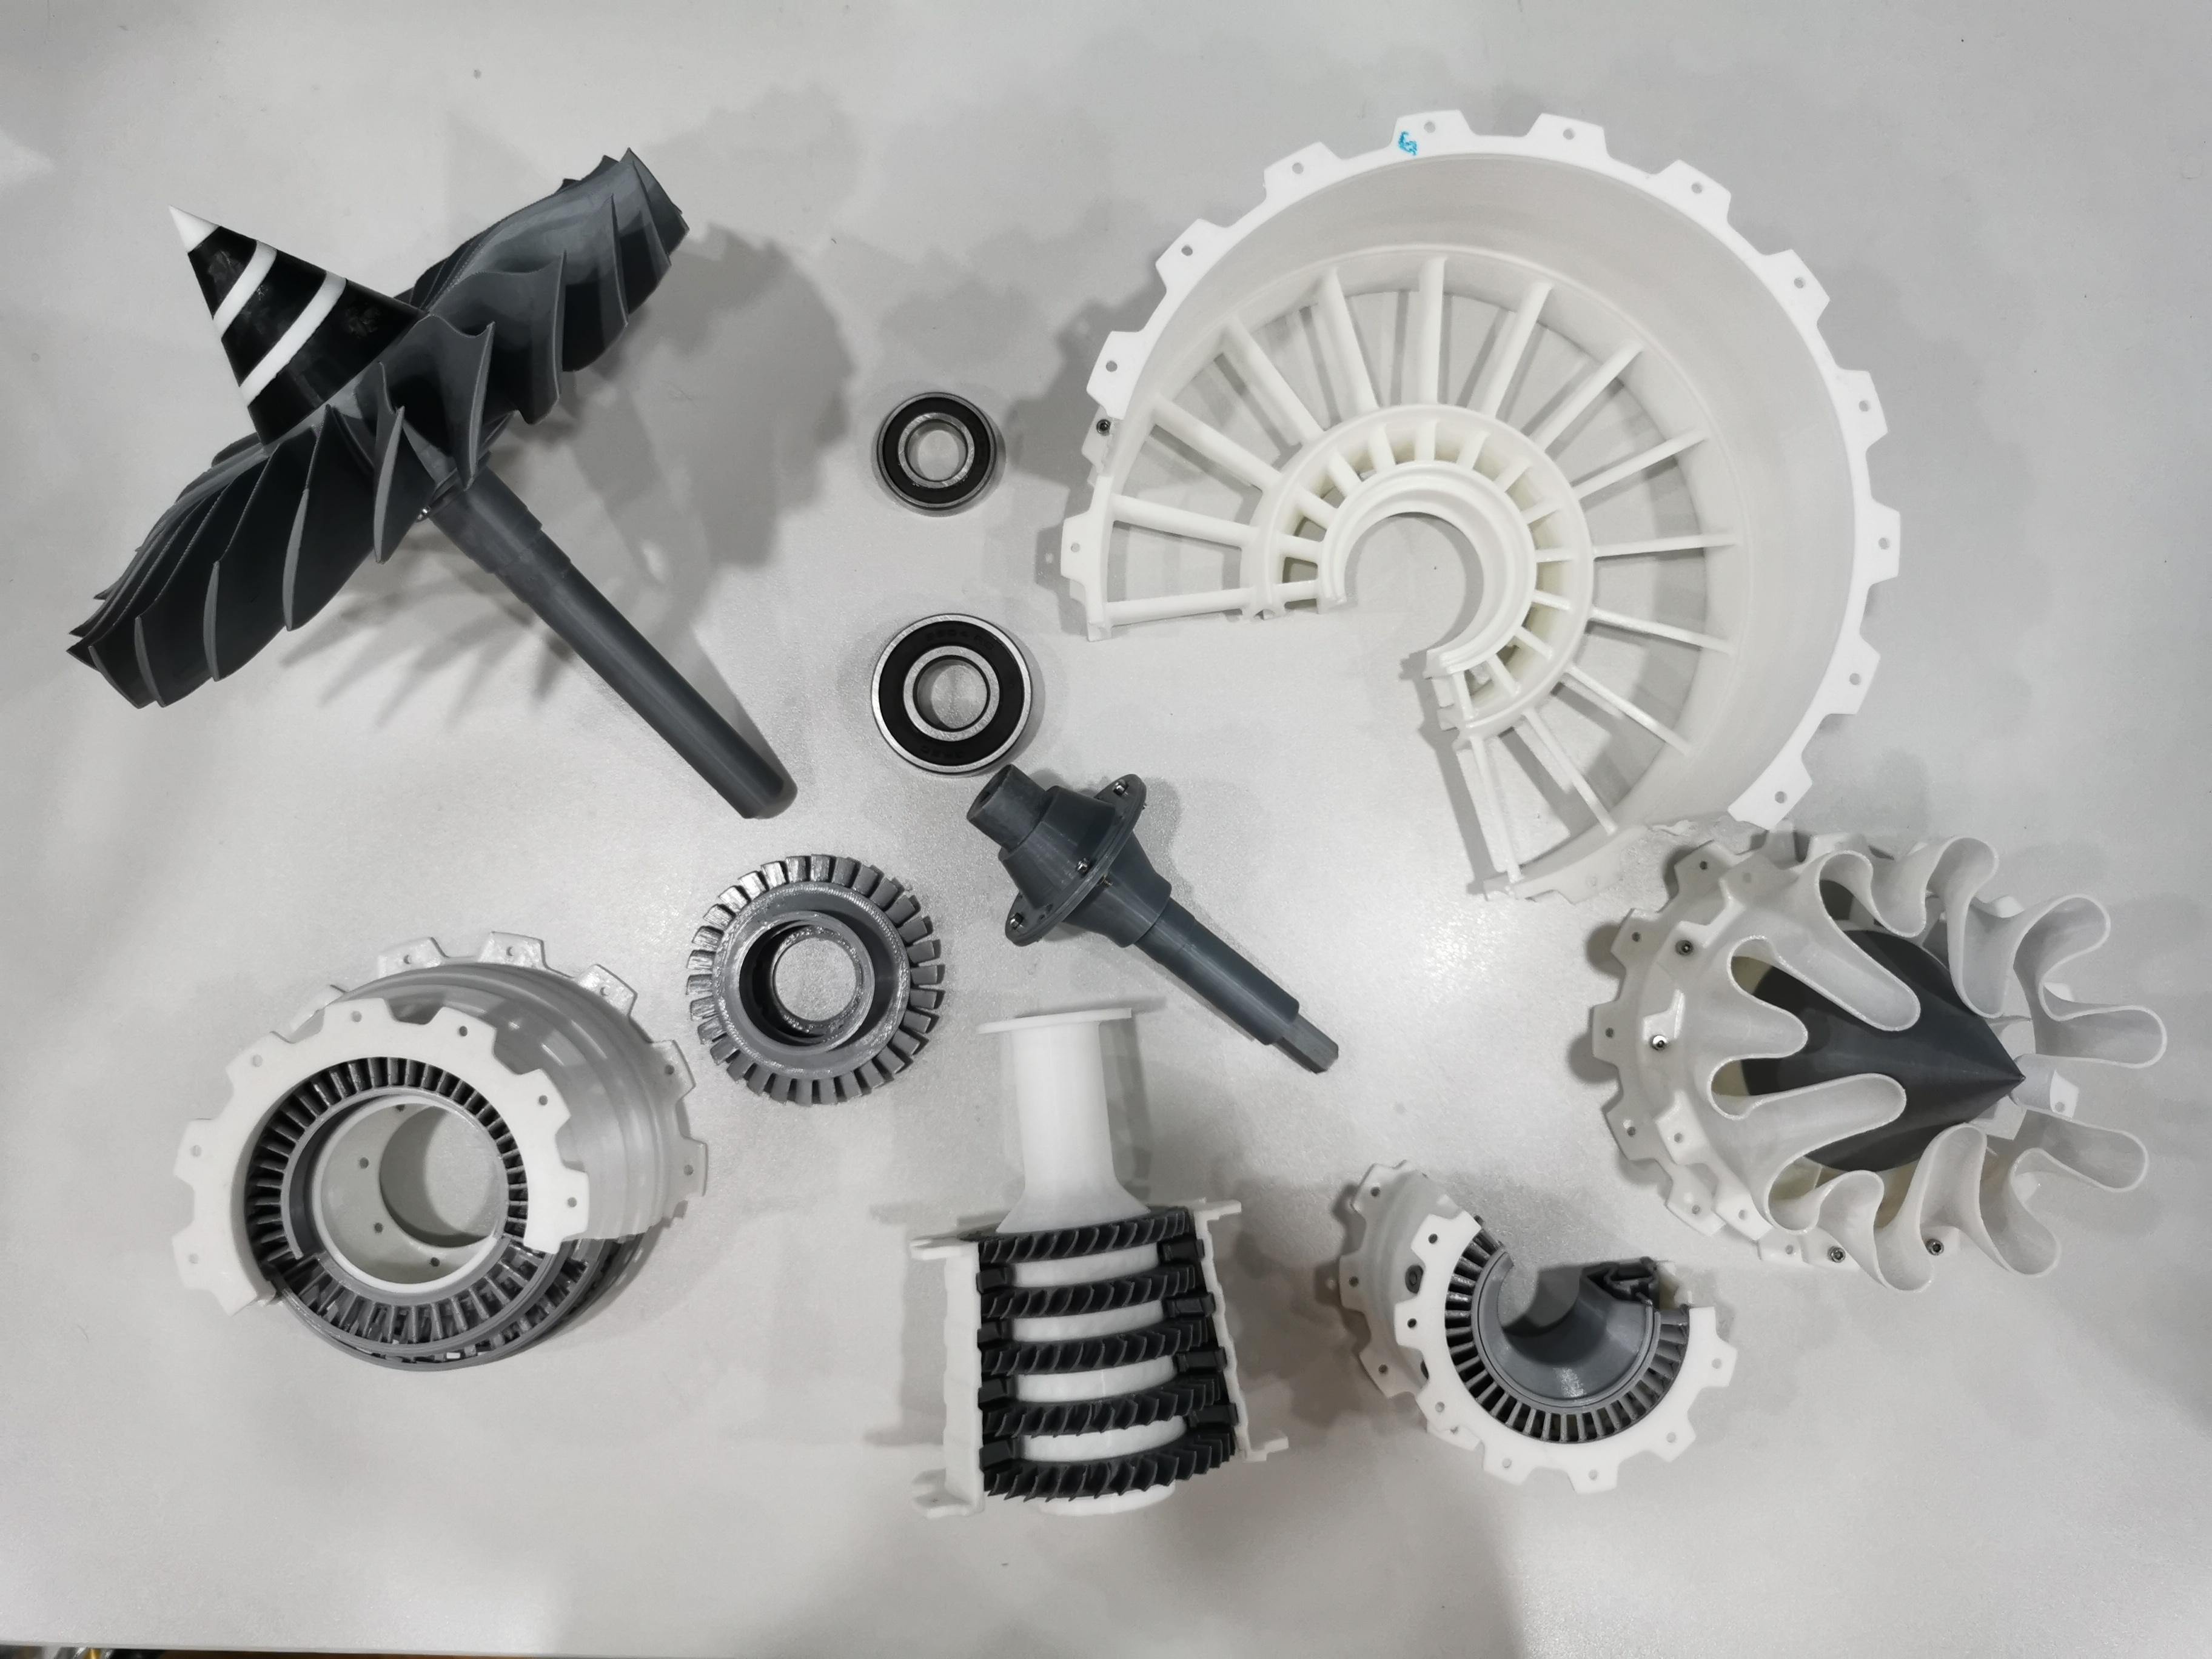Bearing-6003: (838, 369, 1022, 538)
Bearing-6204: (850, 592, 1050, 784)
Combustion Section: (1317, 1145, 1747, 1521)
Fan Casing and Support: (1049, 94, 1919, 913)
Fan and Low Pressure Shaft: (59, 139, 812, 829)
HPT Section: (664, 847, 967, 1115)
High Pressure Spool: (897, 988, 1301, 1537)
LPT Section: (162, 920, 714, 1384)
Low Pressure Spool: (946, 755, 1350, 1077)
Nozzle Section: (1578, 807, 2174, 1300)
